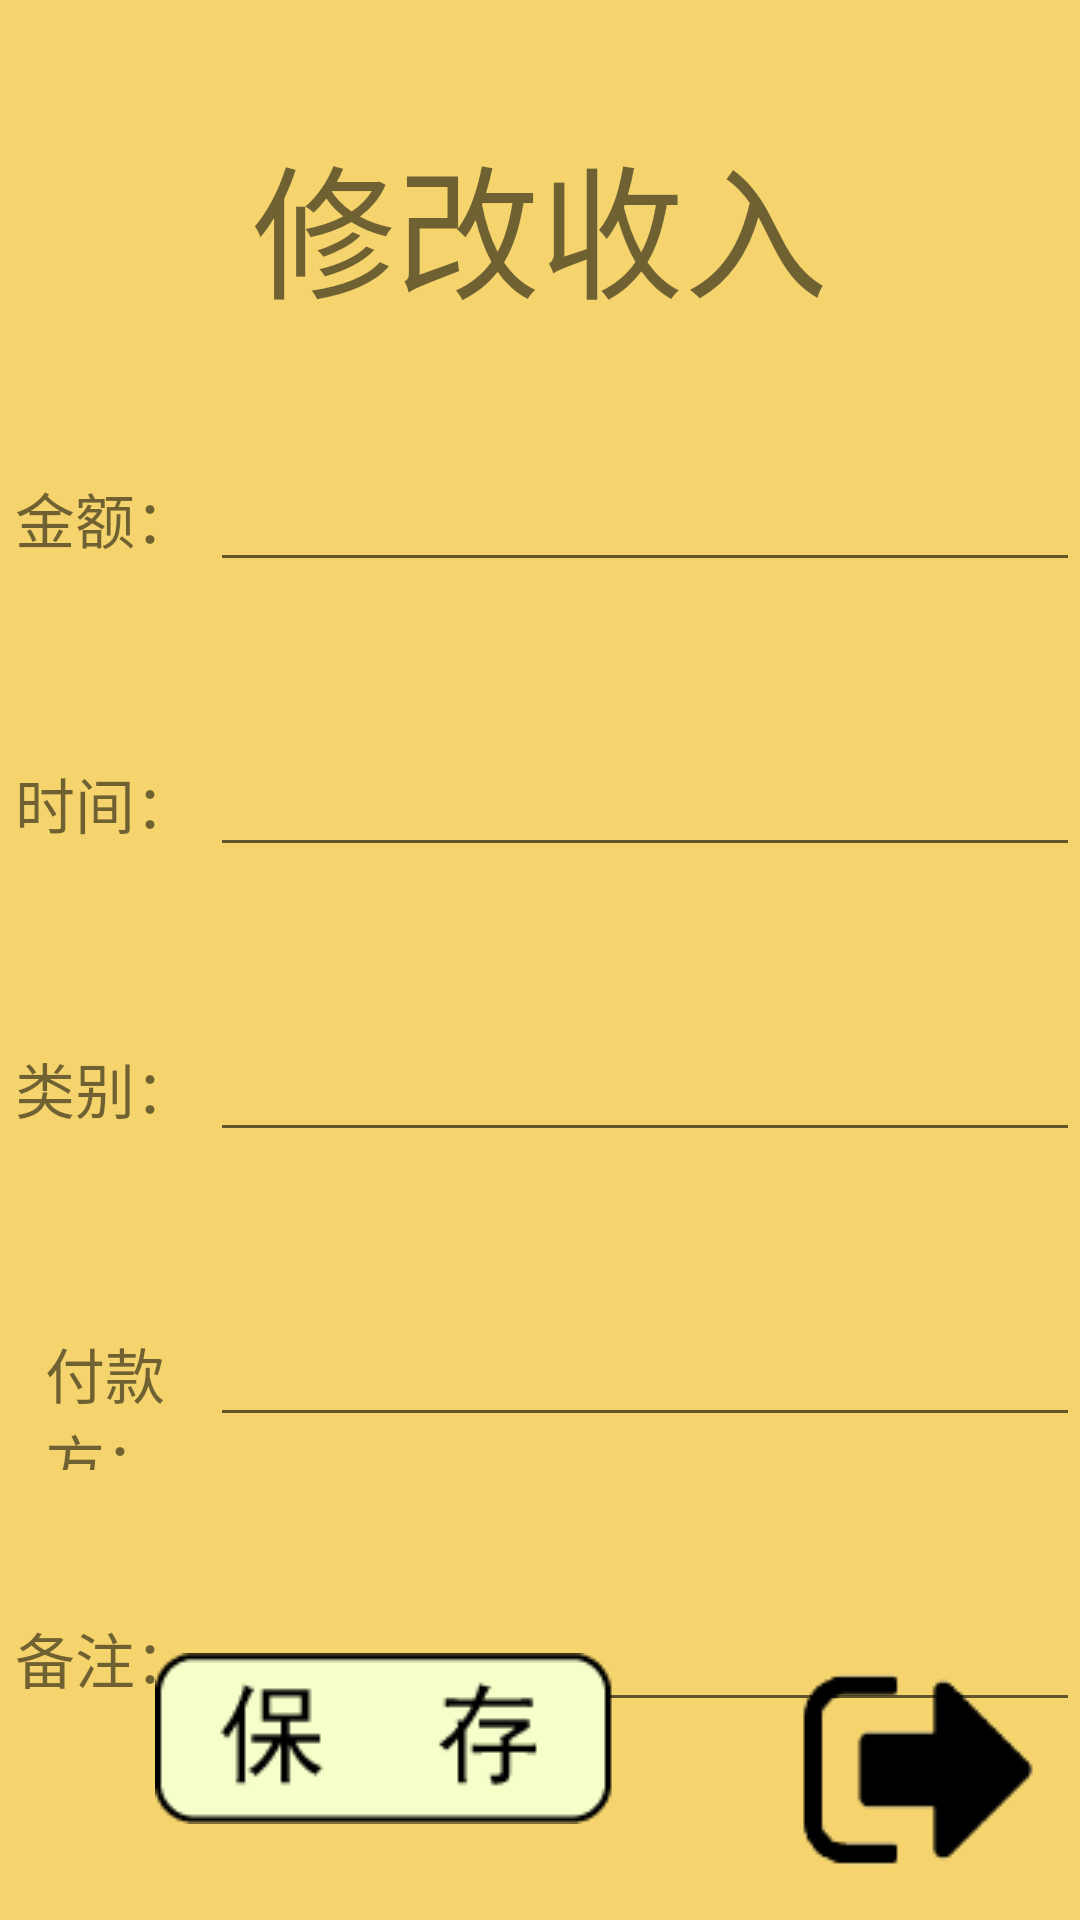

Named icons in this screenshot (1080×1920) and their centers, point (x, y):
quit: point (918, 1769)
